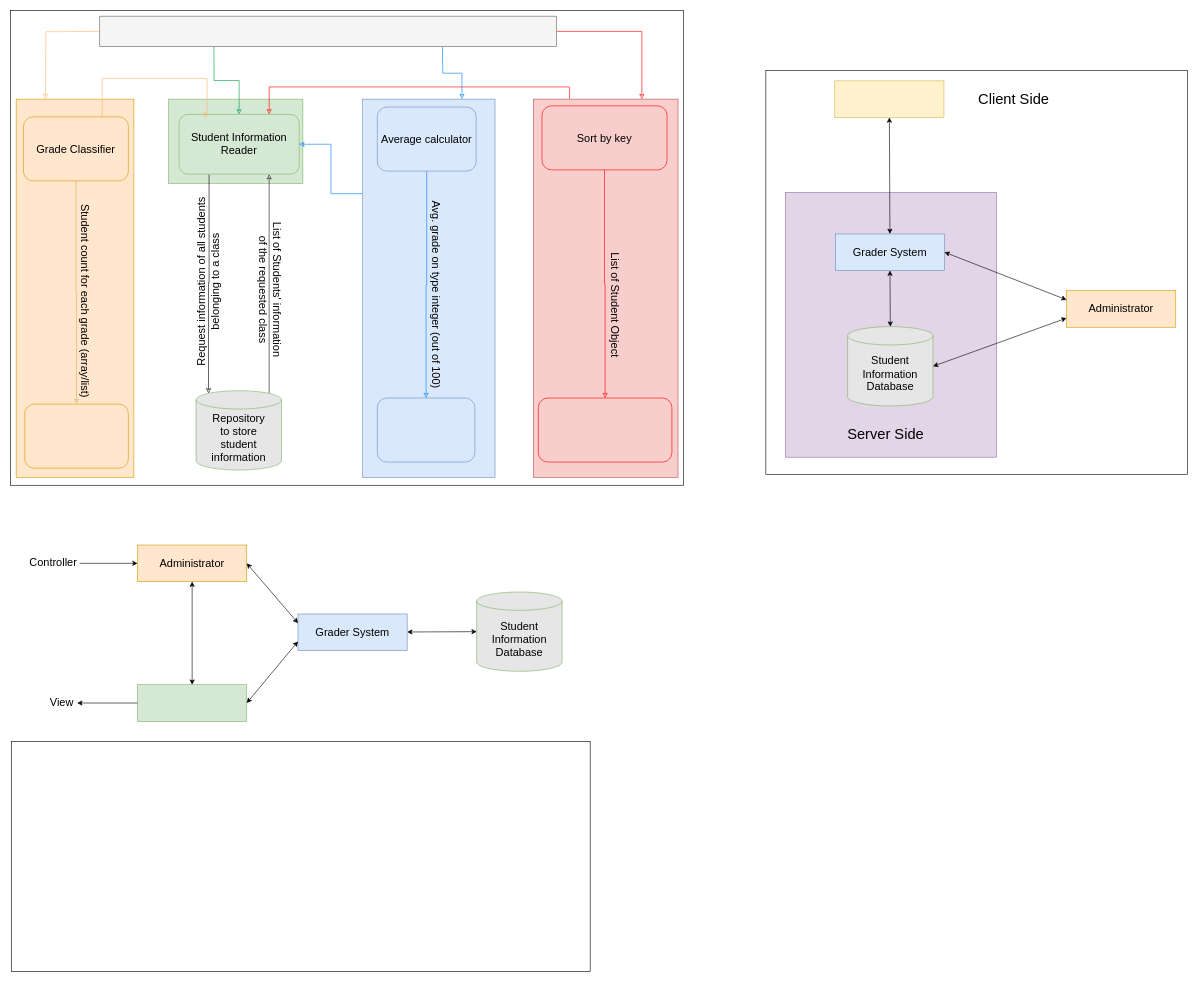
This 1198x982 diagram has some shape labels left out. The shapes that lost their labels are listed below. From the top down, each one's box as (x1, y1, x2, y2) in pixels, then its label:
(99, 16, 557, 47): Main Controller
(834, 80, 944, 117): User Interface
(24, 404, 128, 468): Print Count
(377, 397, 475, 462): Print Grade
(538, 397, 672, 462): Print Student List
(137, 684, 247, 721): Views
